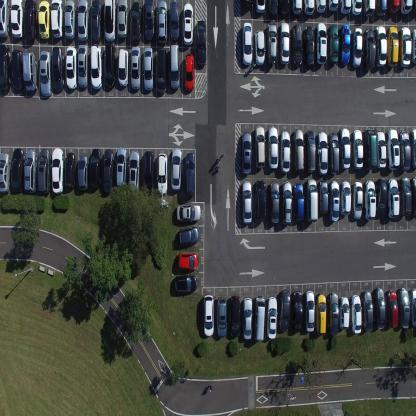car: (22, 50, 38, 93), (37, 148, 51, 194), (11, 148, 25, 193), (51, 147, 64, 194), (90, 43, 103, 90), (363, 127, 377, 170), (398, 25, 412, 67), (386, 128, 400, 170), (23, 0, 37, 41), (10, 0, 24, 41), (327, 131, 340, 175), (278, 289, 291, 333), (23, 149, 36, 193), (292, 127, 304, 174), (168, 43, 180, 90), (398, 176, 412, 216), (37, 0, 51, 40), (128, 149, 140, 195), (142, 46, 154, 92), (104, 43, 116, 89), (39, 50, 51, 96), (386, 25, 399, 67), (397, 287, 410, 329), (102, 148, 114, 193), (182, 2, 194, 47), (129, 0, 141, 45), (130, 45, 142, 90), (77, 43, 89, 88), (52, 47, 64, 92), (156, 46, 167, 95), (339, 23, 351, 67), (315, 21, 327, 65), (278, 21, 290, 65), (267, 126, 279, 170), (240, 131, 252, 175), (229, 294, 241, 338), (202, 294, 214, 338), (156, 152, 168, 196), (143, 150, 155, 194), (156, 0, 168, 44), (65, 46, 77, 90), (0, 44, 11, 92), (385, 289, 398, 329), (373, 288, 386, 328), (374, 24, 386, 67), (338, 127, 350, 170), (328, 180, 340, 223), (361, 290, 373, 333), (170, 147, 182, 190), (291, 22, 302, 68), (281, 180, 292, 226), (254, 295, 265, 341), (363, 28, 375, 70), (399, 130, 411, 172), (216, 296, 228, 338), (173, 273, 197, 294), (176, 202, 200, 223), (115, 146, 127, 188), (89, 147, 101, 189), (76, 0, 88, 42), (11, 50, 23, 92), (317, 131, 328, 176), (306, 178, 317, 223), (254, 125, 265, 170), (351, 27, 363, 68), (387, 177, 399, 218), (351, 180, 363, 221), (350, 293, 362, 334), (168, 0, 180, 41), (143, 0, 155, 41), (117, 47, 129, 88), (64, 0, 76, 41), (269, 181, 280, 225), (241, 181, 252, 225), (304, 289, 315, 333), (266, 296, 277, 340), (364, 180, 376, 220), (351, 129, 363, 169), (242, 22, 253, 65), (266, 22, 277, 65), (305, 130, 316, 173), (255, 179, 266, 222), (104, 0, 115, 43), (196, 19, 206, 66), (116, 0, 128, 39), (50, 0, 62, 39), (303, 25, 314, 67), (292, 290, 303, 332), (90, 0, 101, 42), (0, 151, 11, 192), (280, 129, 290, 174), (328, 291, 338, 336), (184, 152, 194, 197), (64, 152, 76, 189), (293, 182, 304, 222), (316, 294, 326, 336), (179, 226, 199, 247), (254, 29, 265, 67), (328, 24, 338, 64), (376, 177, 386, 217), (184, 52, 194, 92), (340, 180, 351, 216), (78, 155, 89, 191), (0, 0, 10, 39), (243, 297, 252, 340), (376, 131, 386, 169), (177, 252, 198, 270), (339, 295, 349, 330), (318, 180, 328, 214), (408, 288, 416, 327), (410, 176, 416, 216), (363, 0, 375, 19), (410, 27, 416, 64), (375, 0, 387, 18), (338, 0, 352, 15), (399, 0, 413, 15), (410, 128, 415, 170), (303, 0, 315, 16), (290, 0, 302, 15), (278, 0, 289, 16), (351, 0, 362, 16), (387, 0, 399, 14), (267, 0, 278, 15), (326, 0, 339, 12), (315, 0, 326, 14), (256, 0, 266, 15), (242, 0, 254, 10)
